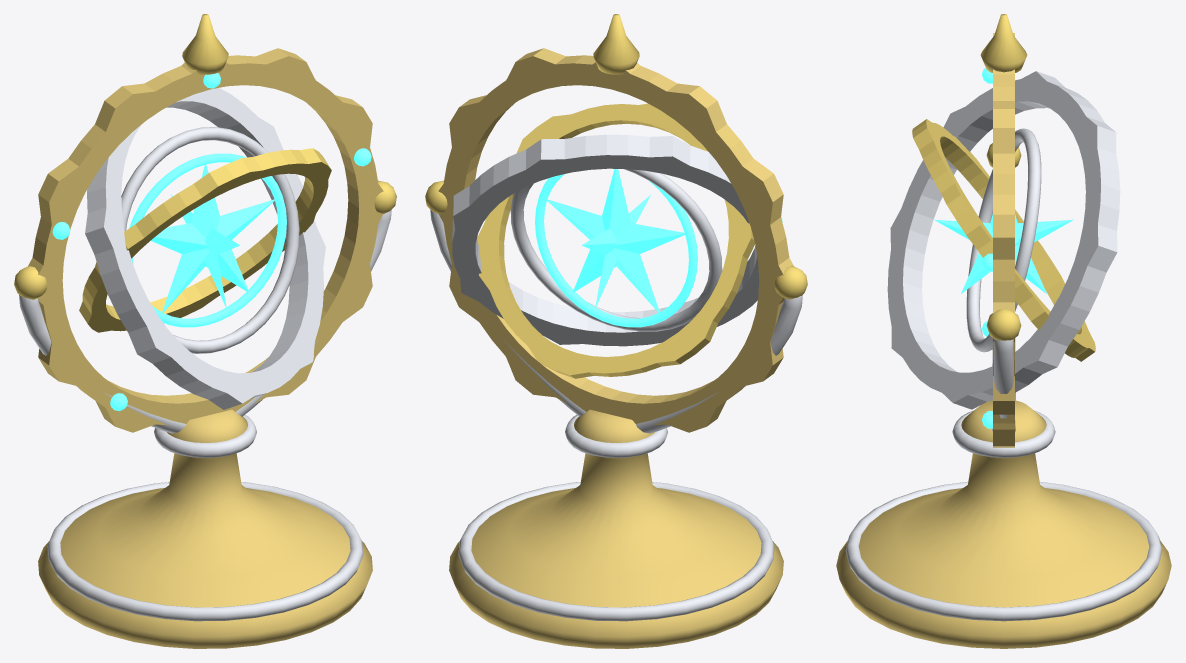
Rendered from TRELIC_STAR_BOW.glb.
The picture shows the model from 3 angles, left to right: view 1: azimuth 30°, elevation 25°; view 2: azimuth 150°, elevation 25°; view 3: azimuth 270°, elevation 25°; orthographic projection.
Parts seen in each view (by area): view 1: AstrolabeFoot, ArmillaryOuterGold, ArmillaryEclipticSilver, ArmillaryEquatorGold, FootSilverRing, ArmillaryInnerSilver, QuincyStarCore, QuincyEnergyHalo, StemSilverCollar, AstrolabeCrownFinial, CradleArm_-1, QuincyStarCross (+2 smaller); view 2: AstrolabeFoot, ArmillaryOuterGold, ArmillaryEclipticSilver, ArmillaryEquatorGold, FootSilverRing, QuincyStarCore, ArmillaryInnerSilver, QuincyEnergyHalo, StemSilverCollar, AstrolabeCrownFinial, CradleArm_-1, QuincyStarCross (+2 smaller); view 3: AstrolabeFoot, ArmillaryEclipticSilver, FootSilverRing, ArmillaryEquatorGold, ArmillaryOuterGold, ArmillaryInnerSilver, StemSilverCollar, AstrolabeCrownFinial, QuincyStarCross, CradleArm_1, TrunnionKnob_1.
Boxes of the visible parts, x1,y1,x2,y2 form: AstrolabeFoot: (38, 409, 372, 648); ArmillaryOuterGold: (28, 48, 383, 432); ArmillaryEclipticSilver: (85, 88, 325, 409); ArmillaryEquatorGold: (79, 148, 331, 332); FootSilverRing: (47, 482, 363, 621); ArmillaryInnerSilver: (121, 127, 299, 353); QuincyStarCore: (150, 164, 274, 312); QuincyEnergyHalo: (129, 153, 286, 327); StemSilverCollar: (154, 415, 256, 457); AstrolabeCrownFinial: (182, 14, 228, 74); CradleArm_-1: (19, 295, 185, 433); QuincyStarCross: (170, 194, 240, 309); AstrolabeFoot: (449, 409, 783, 648); ArmillaryOuterGold: (438, 48, 793, 432); ArmillaryEclipticSilver: (452, 134, 759, 346); ArmillaryEquatorGold: (477, 103, 754, 378); FootSilverRing: (458, 482, 774, 621); QuincyStarCore: (547, 169, 685, 312); ArmillaryInnerSilver: (510, 169, 722, 331); QuincyEnergyHalo: (535, 174, 697, 327); StemSilverCollar: (565, 415, 667, 457); AstrolabeCrownFinial: (593, 14, 639, 74); CradleArm_-1: (636, 295, 802, 433); QuincyStarCross: (581, 194, 651, 309); AstrolabeFoot: (836, 400, 1171, 648); ArmillaryEclipticSilver: (887, 71, 1120, 409); FootSilverRing: (845, 482, 1162, 621); ArmillaryEquatorGold: (912, 119, 1095, 361); ArmillaryOuterGold: (993, 33, 1014, 447); ArmillaryInnerSilver: (966, 128, 1041, 352); StemSilverCollar: (952, 410, 1055, 457); AstrolabeCrownFinial: (980, 14, 1027, 72); QuincyStarCross: (934, 215, 1073, 293); CradleArm_1: (992, 339, 1015, 431); TrunnionKnob_1: (986, 309, 1021, 340).
Size of the model in its own units: 0.1299 by 0.186 by 0.1.
